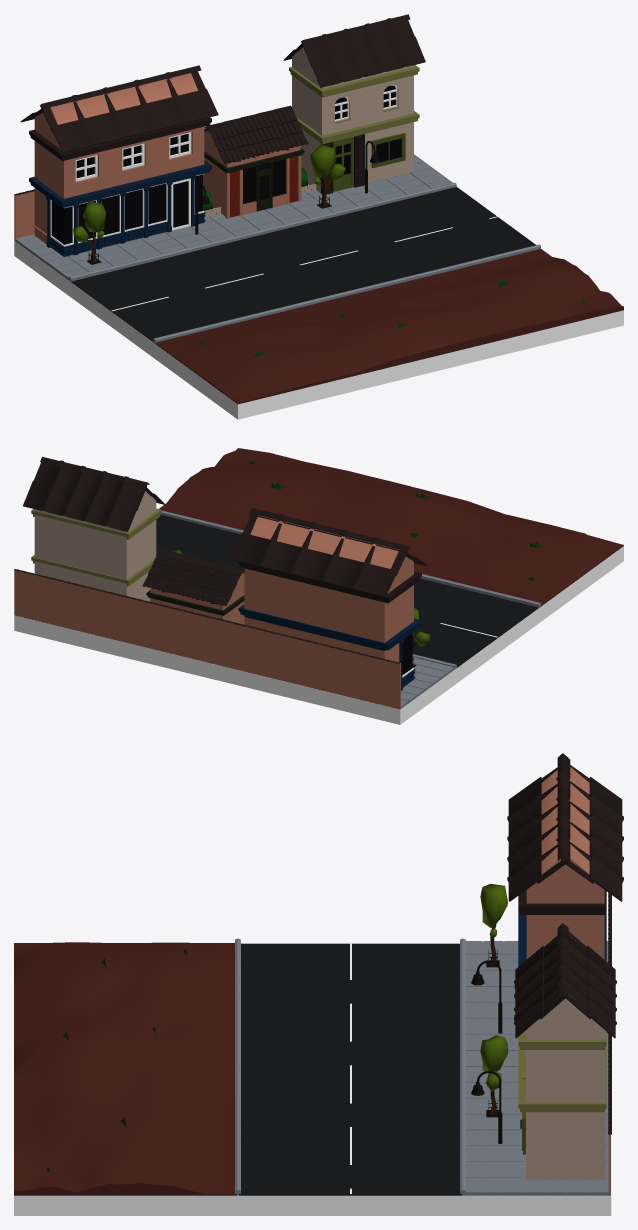
The model's file is 01_House.FBX.
3 renders of one model, top to bottom at view 1: azimuth 30°, elevation 25°; view 2: azimuth 150°, elevation 25°; view 3: azimuth 270°, elevation 25°, orthographic. The views are drawn at different scales.
Visible parts, largest first — view 1: Land, Plane001, House 1, Base, Box963, Box985, Box1043, Box1045, Box1046, Box1053, Box1052, Box001 (+13 smaller); view 2: Land, Box902, House 1, Base, Plane001, Box985, Box1054, Box1047, Box1048, Box1053, Box1052, Box001 (+8 smaller); view 3: Land, Plane001, Box963, Base, Box985, House 1, Box1043, Box1054, Box1045, Box1047, Box1033, Box1048 (+9 smaller).
Part boxes in pixels (x1,y1,x2,y2): Land: (154, 249, 623, 404); Plane001: (70, 187, 535, 342); House 1: (33, 73, 204, 246); Base: (14, 241, 623, 419); Box963: (15, 154, 452, 281); Box985: (292, 47, 413, 193); Box1043: (51, 88, 218, 152); Box1045: (310, 36, 425, 87); Box1046: (301, 20, 414, 66); Box1053: (29, 160, 211, 207); Box1052: (29, 117, 211, 160); Box001: (203, 131, 300, 216); Land: (159, 448, 623, 606); Box902: (14, 570, 400, 709); House 1: (244, 515, 413, 677); Base: (14, 546, 623, 724); Plane001: (156, 514, 539, 668); Box985: (34, 491, 156, 601); Box1054: (230, 533, 397, 597); Box1047: (23, 480, 138, 531); Box1048: (34, 462, 147, 510); Box1053: (238, 604, 421, 650); Box1052: (238, 561, 421, 603); Box001: (150, 573, 244, 624); Land: (14, 942, 237, 1195); Plane001: (238, 943, 461, 1195); Box963: (462, 941, 608, 1195); Base: (14, 1135, 611, 1215); Box985: (526, 935, 605, 1180); House 1: (526, 767, 604, 959); Box1043: (507, 777, 541, 901); Box1054: (589, 777, 623, 901); Box1045: (514, 946, 543, 1038); Box1047: (587, 946, 616, 1038); Box1033: (518, 1046, 606, 1112); Box1048: (562, 931, 590, 1019).
Bounding box in the file's own units: 530 × 215 × 543.
